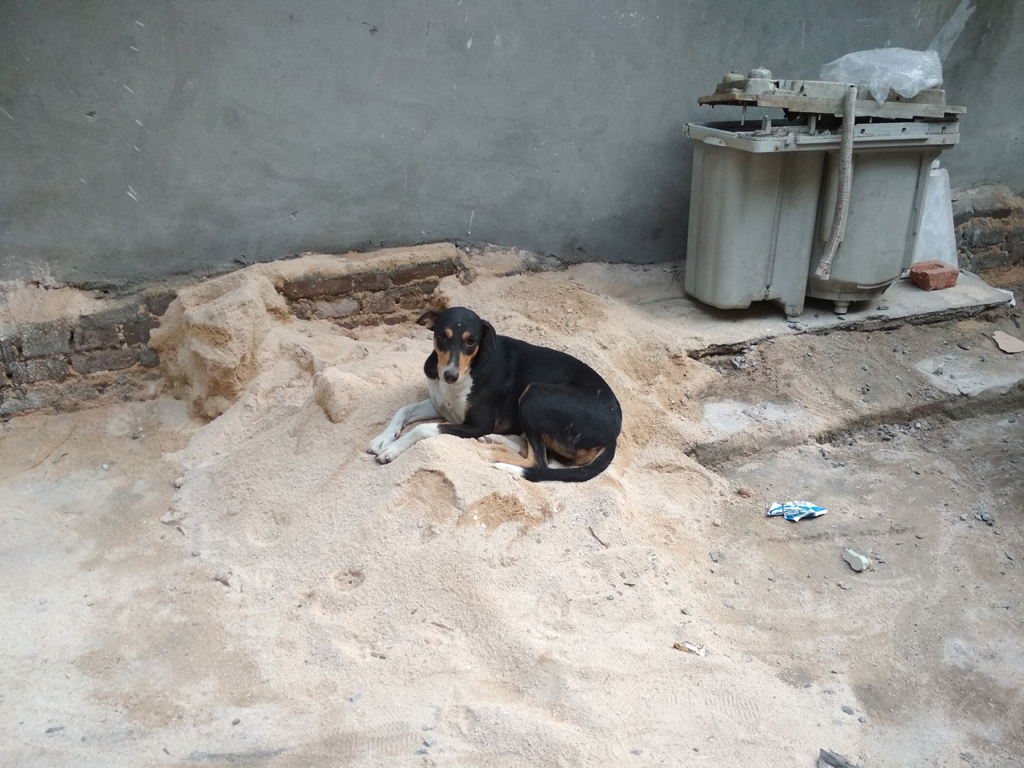dog: (368, 308, 624, 486)
